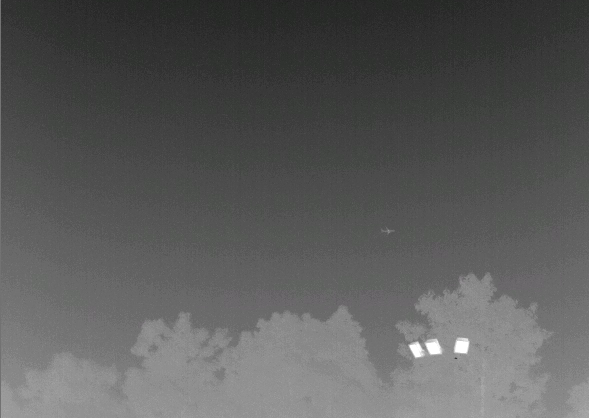dim target: (380, 226, 395, 237)
